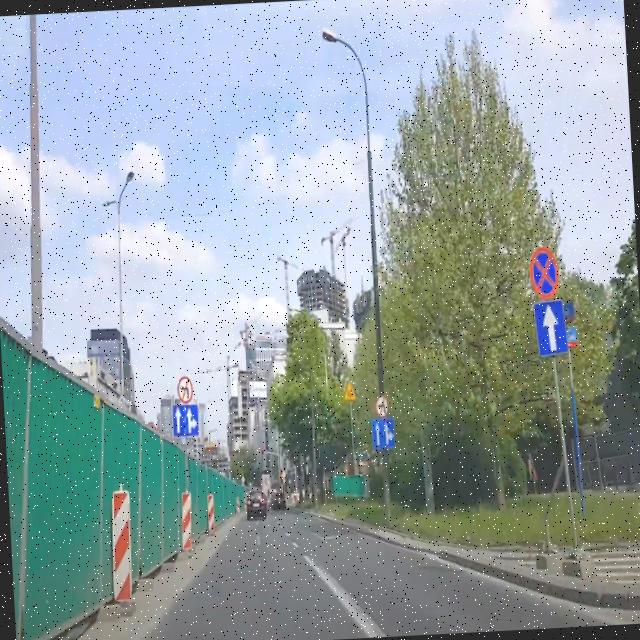Dzieci: (344, 380, 358, 402)
Zakaz zatrzymywania sie: (528, 245, 560, 298)
